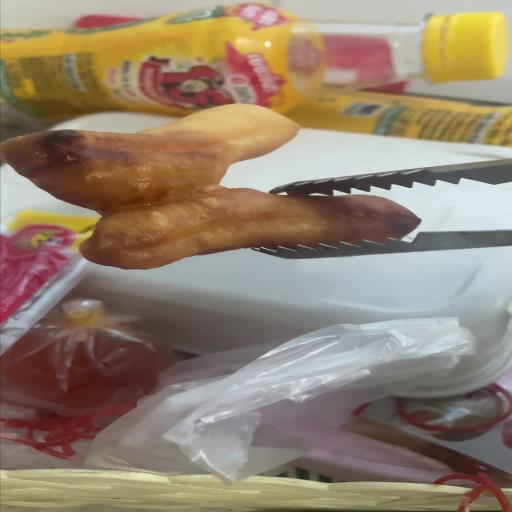street_burnt_good: (0, 104, 422, 269)
